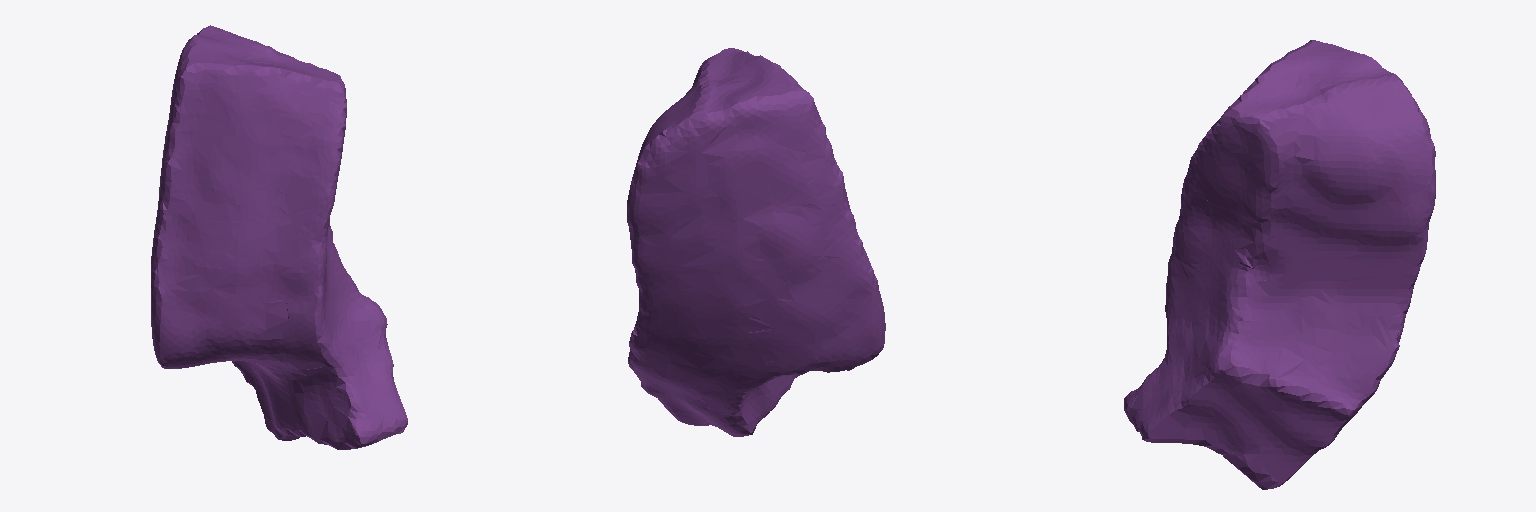
Rendered from Model_10132_LH__Temporal_area_TF_(TF).obj.
3 renders of one model, left to right at view 1: azimuth 30°, elevation 25°; view 2: azimuth 150°, elevation 25°; view 3: azimuth 270°, elevation 25°, orthographic.
Size of the model in its own units: 2.99 by 5.09 by 3.76.